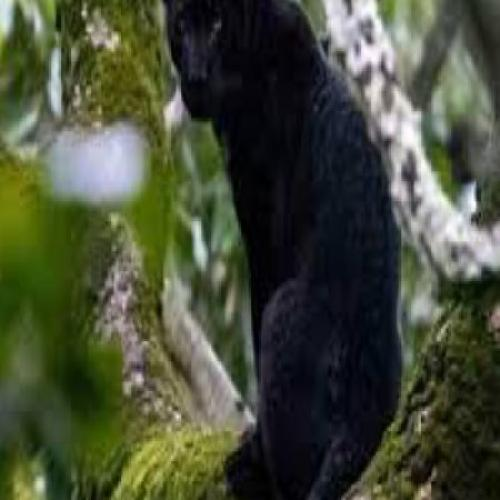panther-endangered: (165, 3, 408, 496)
